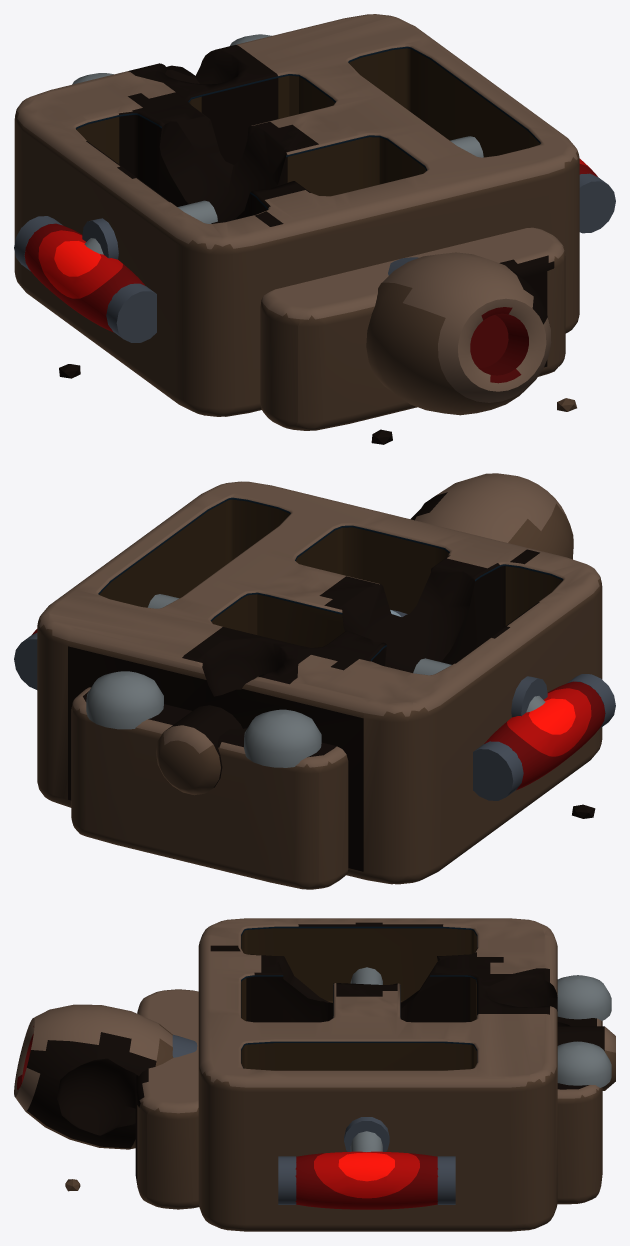
The model's file is cage_turret_wreck.glb.
3 renders of one model, top to bottom at view 1: azimuth 30°, elevation 25°; view 2: azimuth 150°, elevation 25°; view 3: azimuth 270°, elevation 25°, orthographic. The views are drawn at different scales.
Visible parts, largest first — view 1: body, gun, chin, lamp0, lamp_cap00, lamp_cap10, collar0, lamp_cap01, pipe0; view 2: body, back, gun, lamp0, stub, knob0, knob1, lamp_cap01, lamp_cap11, collar0, lamp_cap00, pipe0; view 3: body, gun, chin, lamp1, back, knob1, knob0, stub, lamp_cap11, lamp_cap10, collar1, pipe1 (+2 smaller).
Part boxes in pixels (x1=…): body: x1=14, y1=14, x2=579, y2=416; gun: x1=366, y1=252, x2=551, y2=415; chin: x1=260, y1=227, x2=565, y2=430; lamp0: x1=24, y1=223, x2=145, y2=332; lamp_cap00: x1=106, y1=283, x2=156, y2=342; lamp_cap10: x1=579, y1=173, x2=615, y2=233; collar0: x1=82, y1=218, x2=118, y2=259; lamp_cap01: x1=14, y1=216, x2=62, y2=270; pipe0: x1=84, y1=200, x2=217, y2=254; body: x1=37, y1=481, x2=602, y2=884; back: x1=71, y1=687, x2=348, y2=889; gun: x1=410, y1=473, x2=573, y2=559; lamp0: x1=484, y1=681, x2=605, y2=790; stub: x1=156, y1=705, x2=242, y2=795; knob0: x1=244, y1=709, x2=321, y2=767; knob1: x1=86, y1=671, x2=163, y2=729; lamp_cap01: x1=473, y1=741, x2=523, y2=800; lamp_cap11: x1=14, y1=633, x2=37, y2=689; collar0: x1=511, y1=676, x2=547, y2=717; lamp_cap00: x1=567, y1=674, x2=615, y2=728; pipe0: x1=413, y1=658, x2=545, y2=712; body: x1=198, y1=918, x2=557, y2=1231; gun: x1=14, y1=1004, x2=173, y2=1149; chin: x1=135, y1=989, x2=199, y2=1209; lamp1: x1=295, y1=1151, x2=438, y2=1209; back: x1=557, y1=1016, x2=602, y2=1204; knob1: x1=557, y1=1041, x2=611, y2=1087; knob0: x1=557, y1=975, x2=611, y2=1020; stub: x1=557, y1=1026, x2=615, y2=1090; lamp_cap11: x1=437, y1=1156, x2=455, y2=1204; lamp_cap10: x1=278, y1=1156, x2=296, y2=1204; collar1: x1=344, y1=1117, x2=389, y2=1151; pipe1: x1=350, y1=1131, x2=382, y2=1151.
Bounding box in the file's own units: 23.15 × 7.6 × 26.83.
